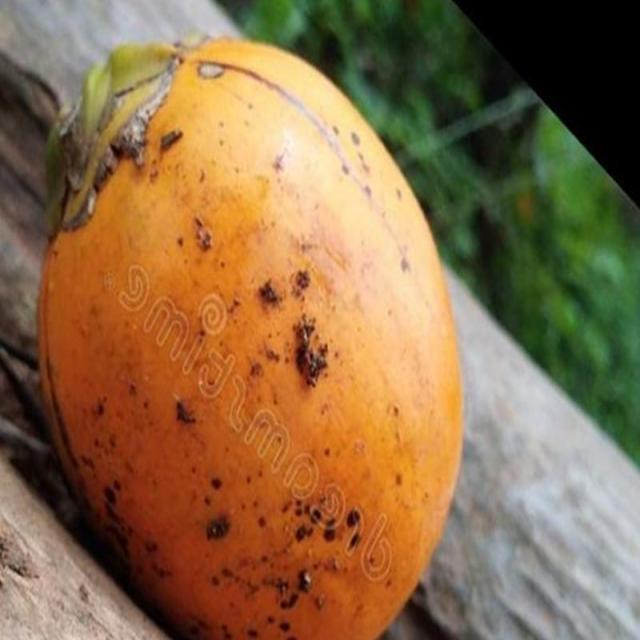good: (26, 32, 464, 639)
